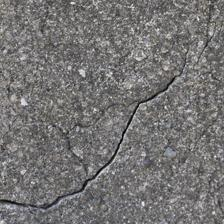Crack: (4, 38, 173, 179)
